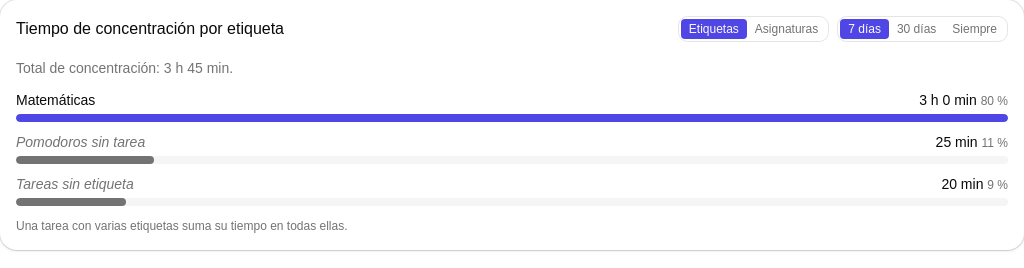
Test: TiempoPorCategoria › con el modo escolar se puede agrupar por asignatura
The width and height of the screenshot is (1024, 268).
Click the button "Asignaturas" at (787,29), box [747, 19, 826, 39]
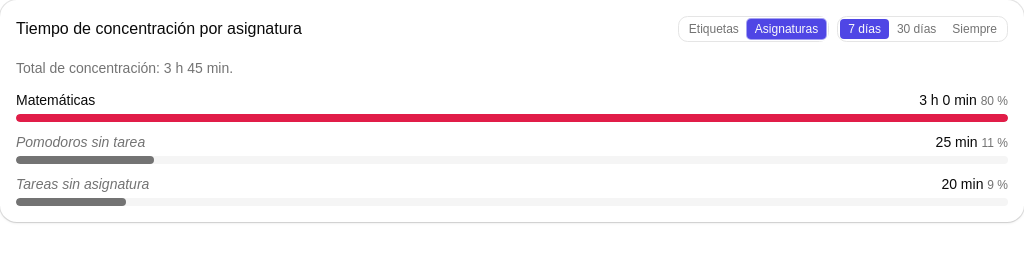
Result: the text "Tiempo de concentración por asignatura" is shown at [16, 18, 302, 40]
Result: the text "Tareas sin asignatura" is shown at [16, 174, 149, 194]
